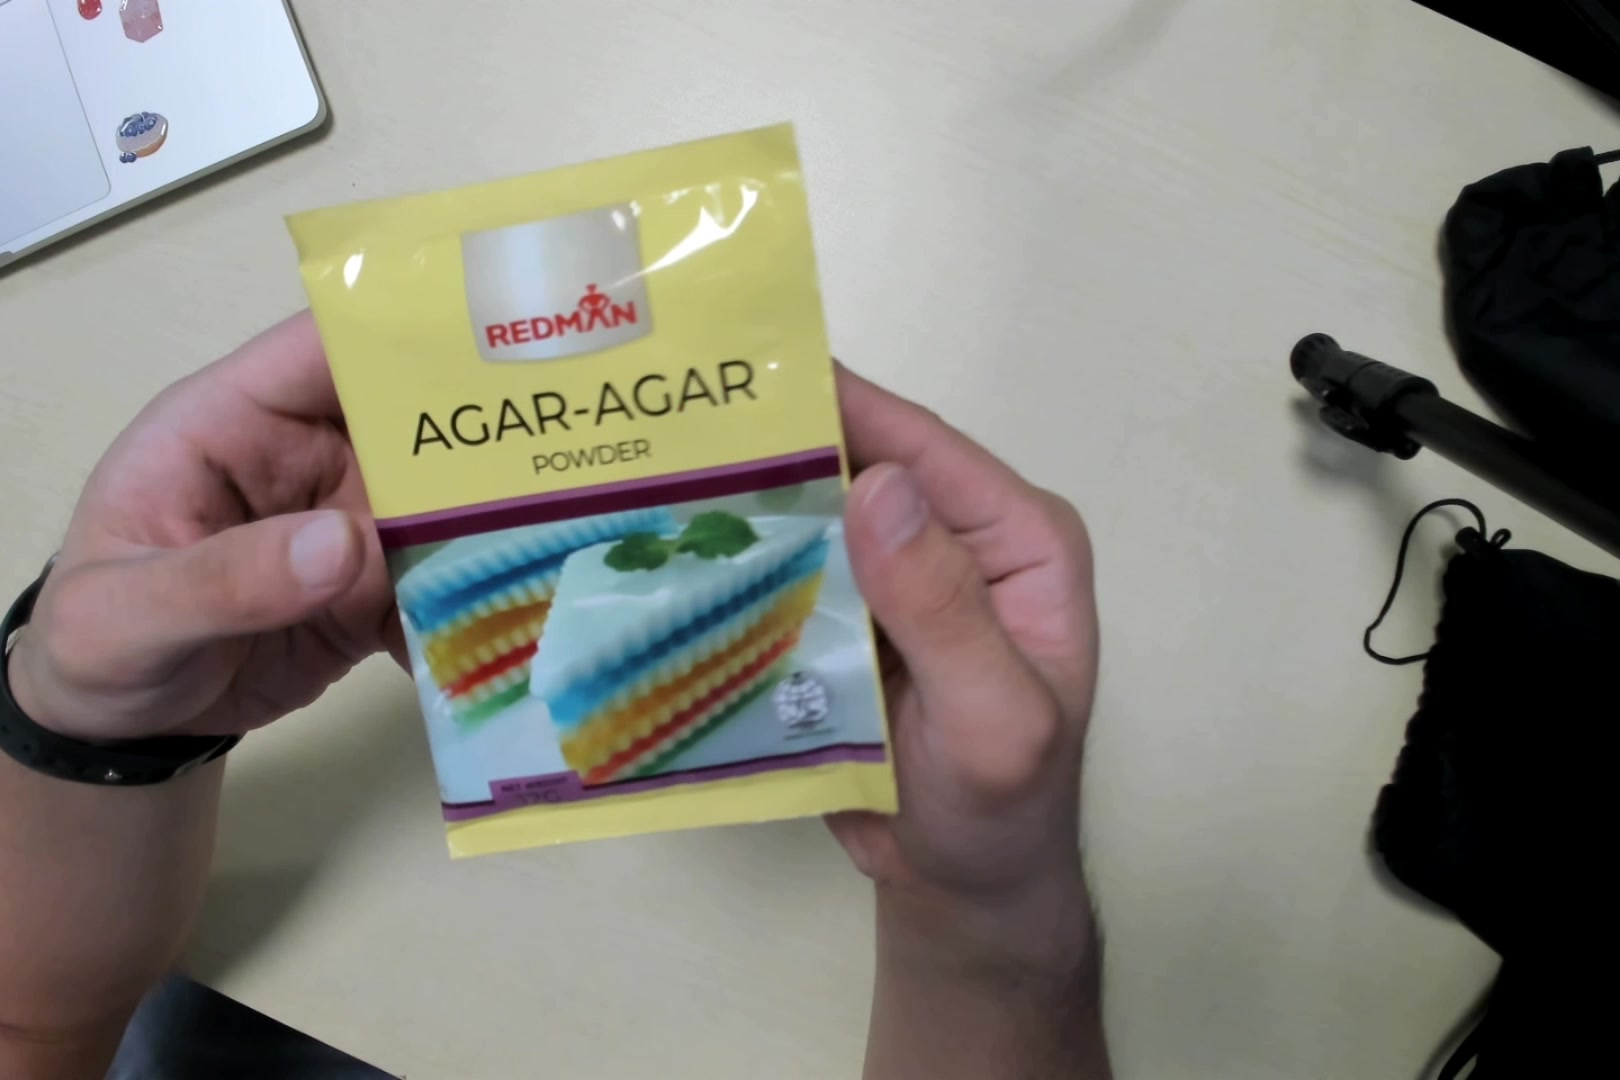OtherBakingNeeds_0-99g_Halal_NonHealthy: (334, 159, 877, 837)
